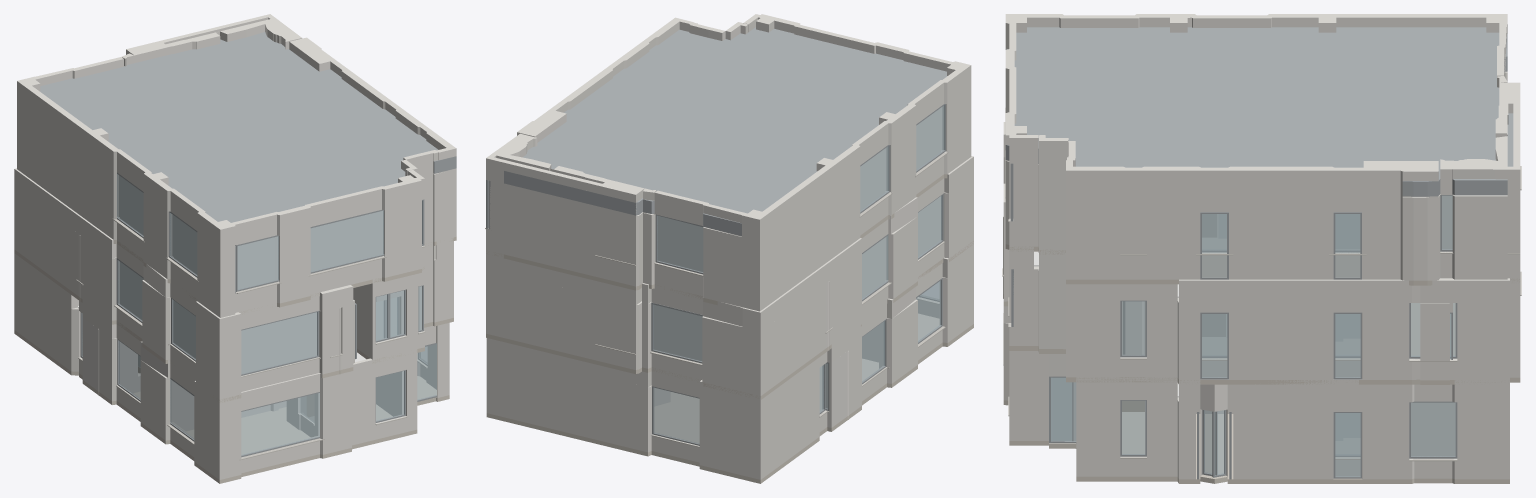
3 views of the same model, side by side, from view 1: azimuth 30°, elevation 25°; view 2: azimuth 150°, elevation 25°; view 3: azimuth 270°, elevation 25° (orthographic). The views are drawn at different scales.
Parts seen in each view (by area): view 1: VIS_Roof_Flat_0, VIS_F3_WestA, VIS_F3_SouthA, VIS_F2_SouthB, VIS_F1_SouthA, VIS_F2_InternalU, VIS_F1_Floor_0, VIS_F1_SouthB, VIS_F1_WestD, VIS_F1_SouthA_0_Glass, VIS_F1_WestC, VIS_F2_SouthB_0_Glass (+44 smaller); view 2: VIS_Roof_Flat_0, VIS_F3_WestA, VIS_F1_InternalE, VIS_F3_InternalH, VIS_F2_InternalE, VIS_F1_NorthC, VIS_F2_InternalU, VIS_F2_NorthC, VIS_F3_NorthC, VIS_F1_Floor_0, VIS_F1_WestD, VIS_F2_WestF (+36 smaller); view 3: VIS_Roof_Flat_0, VIS_F3_EastC, VIS_F2_EastD, VIS_F1_EastG, VIS_F2_EastC, VIS_F3_WestA, VIS_F1_EastC, VIS_F1_Floor_0, VIS_F3_InternalD, VIS_F2_Floor_0, VIS_F3_NorthA, VIS_F3_EastA (+40 smaller).
Boxes of the visible parts, <box> form: VIS_Roof_Flat_0: <box>40,32,456,222</box>; VIS_F3_WestA: <box>17,76,236,317</box>; VIS_F3_SouthA: <box>234,173,421,312</box>; VIS_F2_SouthB: <box>240,292,319,391</box>; VIS_F1_SouthA: <box>237,371,351,475</box>; VIS_F2_InternalU: <box>24,194,111,320</box>; VIS_F1_Floor_0: <box>14,330,449,483</box>; VIS_F1_SouthB: <box>352,349,417,445</box>; VIS_F1_WestD: <box>24,261,78,370</box>; VIS_F1_SouthA_0_Glass: <box>241,393,319,455</box>; VIS_F1_WestC: <box>194,381,236,479</box>; VIS_F2_SouthB_0_Glass: <box>241,312,317,373</box>; VIS_Roof_Flat_0: <box>504,27,947,235</box>; VIS_F3_WestA: <box>742,61,971,311</box>; VIS_F1_InternalE: <box>504,353,647,452</box>; VIS_F3_InternalH: <box>504,184,635,286</box>; VIS_F2_InternalE: <box>504,273,635,369</box>; VIS_F1_NorthC: <box>699,380,770,479</box>; VIS_F2_InternalU: <box>771,257,861,388</box>; VIS_F2_NorthC: <box>651,284,770,395</box>; VIS_F3_NorthC: <box>654,190,744,296</box>; VIS_F1_Floor_0: <box>486,313,973,483</box>; VIS_F1_WestD: <box>771,357,819,471</box>; VIS_F2_WestF: <box>742,238,861,396</box>; VIS_Roof_Flat_0: <box>1005,27,1513,196</box>; VIS_F3_EastC: <box>1066,160,1438,280</box>; VIS_F2_EastD: <box>1179,278,1509,379</box>; VIS_F1_EastG: <box>1227,379,1509,479</box>; VIS_F2_EastC: <box>1090,284,1177,377</box>; VIS_F3_WestA: <box>1005,14,1507,49</box>; VIS_F1_EastC: <box>1101,377,1177,476</box>; VIS_F1_Floor_0: <box>1003,400,1509,483</box>; VIS_F3_InternalD: <box>1452,195,1507,279</box>; VIS_F2_Floor_0: <box>1003,294,1520,384</box>; VIS_F3_NorthA: <box>1495,82,1520,278</box>; VIS_F3_EastA: <box>1009,135,1038,246</box>.
Size of the model in its own units: 10.69 by 9.75 by 14.69.
